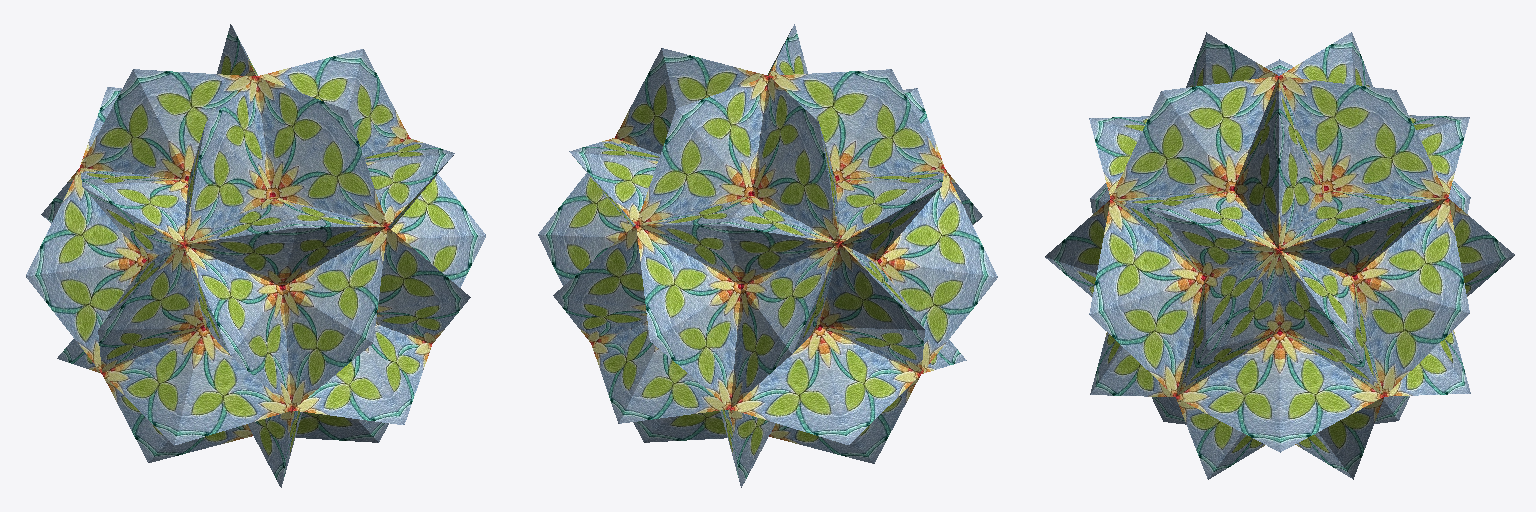
3 views of the same model, side by side, from view 1: azimuth 30°, elevation 25°; view 2: azimuth 150°, elevation 25°; view 3: azimuth 270°, elevation 25° (orthographic).
Bounding box in the file's own units: 3.62 × 3.25 × 3.8.
Materials: 1 (1 with a texture image).